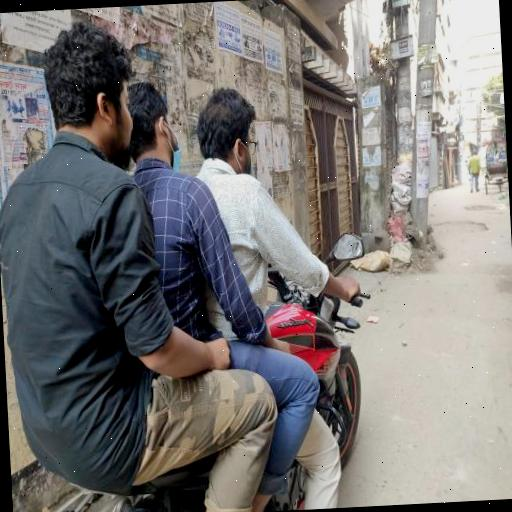no helmet: (190, 50, 286, 227)
triple riding: (0, 7, 384, 512)
